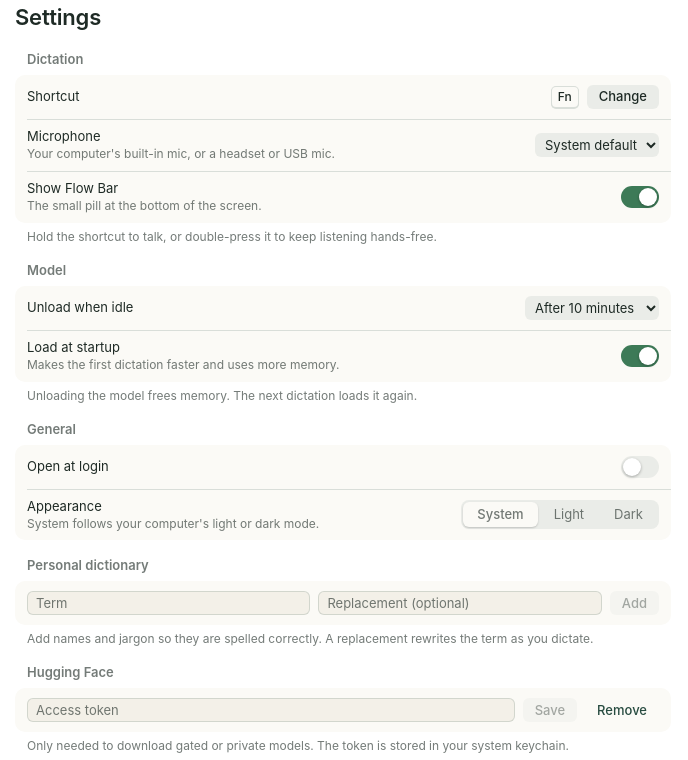
Test: Settings › hotkey_recording_ignores_escape
The image size is (688, 760).
Click the button "Change" at x=623, y=97, box [587,85,659,109]
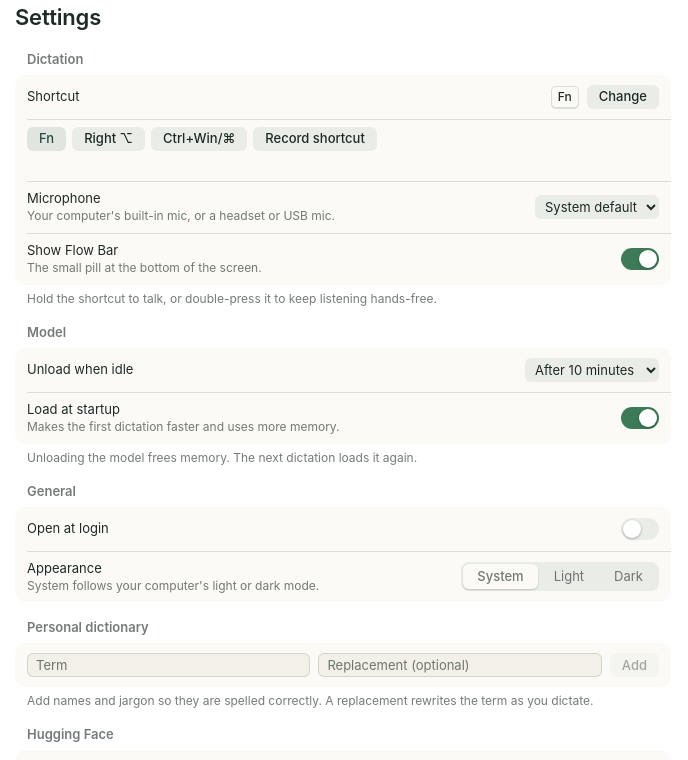
Click the button "Record shortcut" at x=315, y=139, box [253,127,377,151]
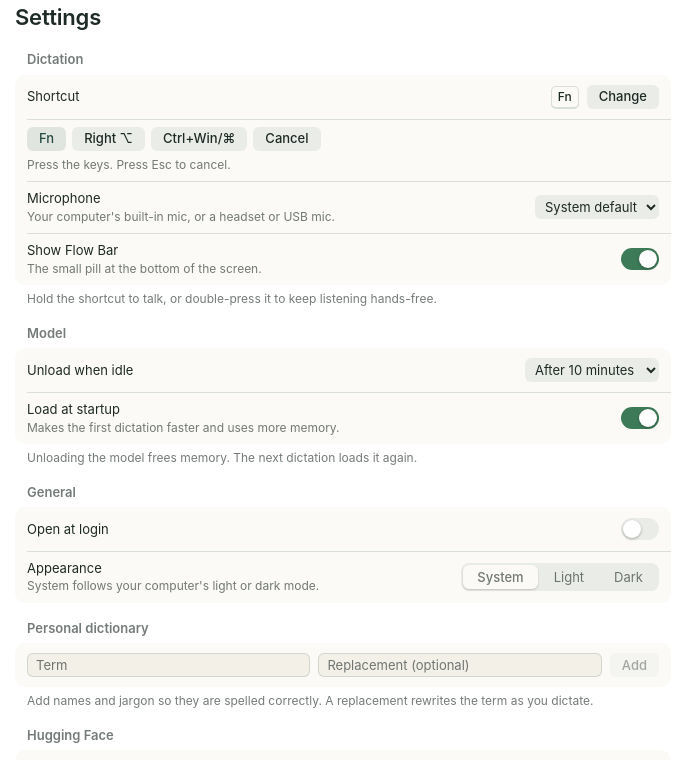
Press Escape
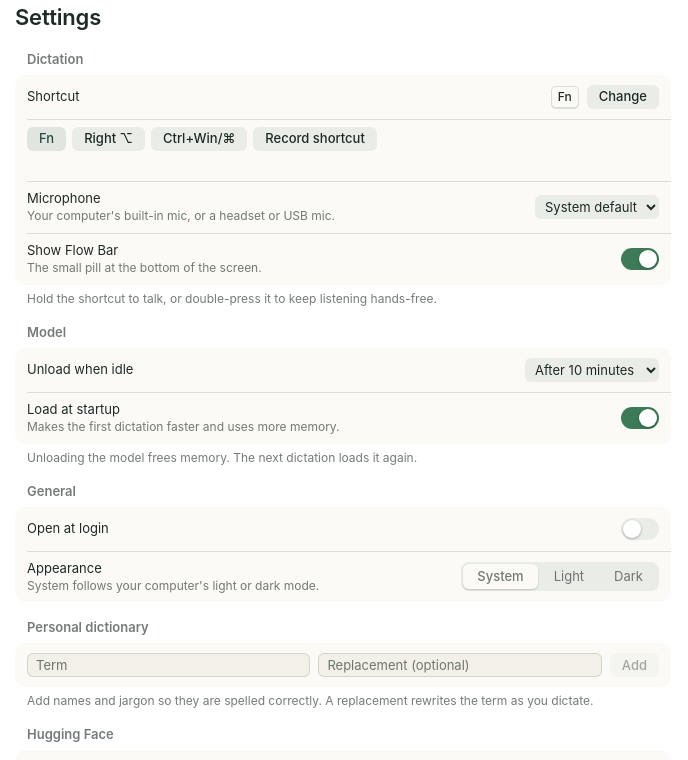
Check: the text "Press the keys" is gone
